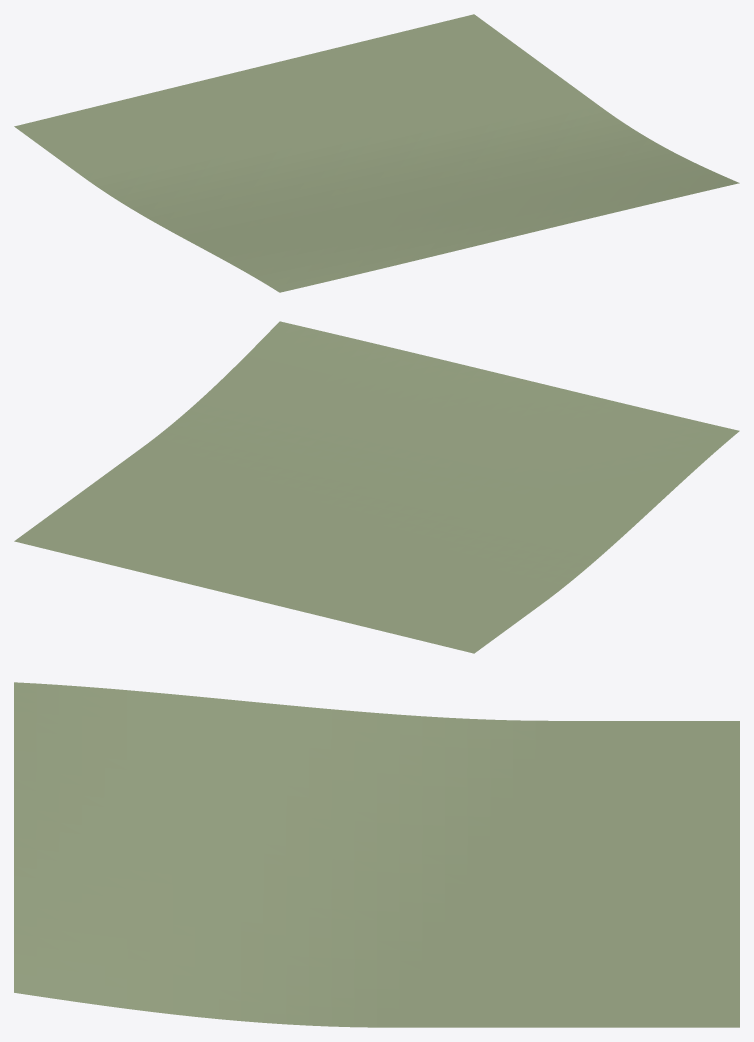
File: valley-0-8.glb
The picture shows the model from 3 angles, top to bottom: view 1: azimuth 30°, elevation 25°; view 2: azimuth 150°, elevation 25°; view 3: azimuth 270°, elevation 25°; orthographic projection. The views are drawn at different scales.
Parts seen in each view (by area): view 1: valley-0-8; view 2: valley-0-8; view 3: valley-0-8.
Boxes of the visible parts, x1=… form: valley-0-8: x1=14, y1=14, x2=739, y2=292; valley-0-8: x1=14, y1=321, x2=739, y2=653; valley-0-8: x1=14, y1=682, x2=739, y2=1027.
Bounding box in the file's own units: 256 × 15.01 × 256.
